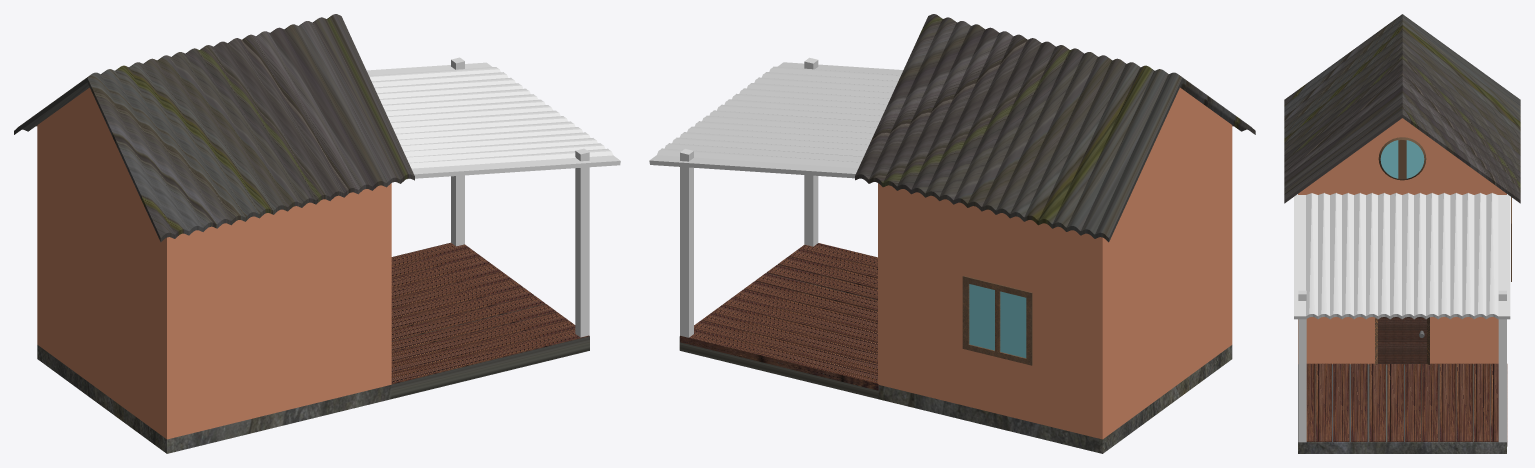
Rendered from Rumah1Fix.fbx.
The picture shows the model from 3 angles, left to right: view 1: azimuth 30°, elevation 25°; view 2: azimuth 150°, elevation 25°; view 3: azimuth 270°, elevation 25°; orthographic projection. The views are drawn at different scales.
Visible parts, largest first — view 1: Cube, Cube.018, Cube.004, Cube.003, Cube.017, Cube.016, Cube.015, Cube.014, Cube.013, Cube.012, Cube.011, Cube.010 (+5 smaller); view 2: Cube, Cube.018, Cube.004, Cube.006, Plane.001, Cube.002, Plane, Cube.007, Cube.008, Cube.009, Cube.010, Cube.011 (+7 smaller); view 3: Cube.004, Cube.018, Cube, Cube.019, Cube.007, Cube.008, Cube.009, Cube.014, Cube.015, Cube.016, Cube.010, Cube.013 (+9 smaller).
Boxes of the visible parts, x1,y1,x2,y2 form: Cube: (37, 87, 589, 453); Cube.018: (14, 14, 414, 242); Cube.004: (366, 62, 620, 179); Cube.003: (575, 148, 589, 337); Cube.017: (391, 329, 589, 384); Cube.016: (391, 320, 575, 373); Cube.015: (391, 312, 567, 362); Cube.014: (391, 304, 556, 352); Cube.013: (391, 295, 545, 341); Cube.012: (391, 287, 533, 330); Cube.011: (391, 279, 522, 319); Cube.010: (391, 272, 512, 308); Cube: (679, 87, 1232, 453); Cube.018: (855, 14, 1255, 242); Cube.004: (649, 62, 903, 178); Cube.006: (680, 329, 878, 390); Plane.001: (969, 284, 1026, 357); Cube.002: (680, 149, 693, 337); Plane: (962, 276, 1032, 365); Cube.007: (694, 320, 877, 373); Cube.008: (701, 312, 877, 363); Cube.009: (712, 305, 877, 352); Cube.010: (722, 297, 877, 342); Cube.011: (733, 289, 877, 332); Cube.004: (1294, 193, 1510, 319); Cube.018: (1284, 14, 1520, 203); Cube: (1298, 118, 1506, 453); Cube.019: (1378, 317, 1426, 364); Cube.007: (1473, 363, 1490, 441); Cube.008: (1456, 363, 1472, 441); Cube.009: (1439, 363, 1455, 441); Cube.014: (1351, 363, 1367, 441); Cube.015: (1333, 363, 1349, 441); Cube.016: (1315, 363, 1331, 441); Cube.010: (1422, 363, 1438, 441); Cube.013: (1369, 363, 1385, 441).
Bounding box in the file's own units: 1018 × 700 × 554.
Materials: 10 (5 with a texture image).
